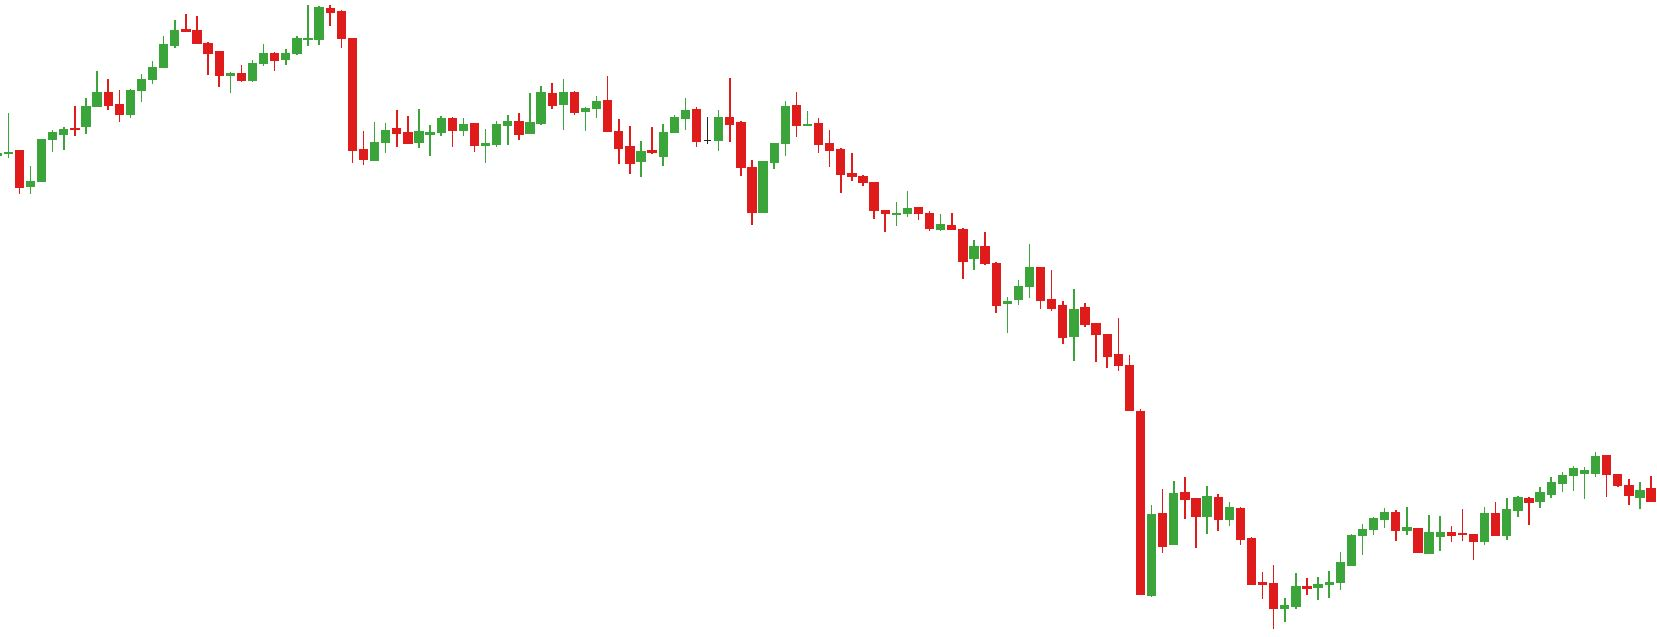buy: (1147, 502, 1301, 630)
sell: (679, 71, 736, 146)
